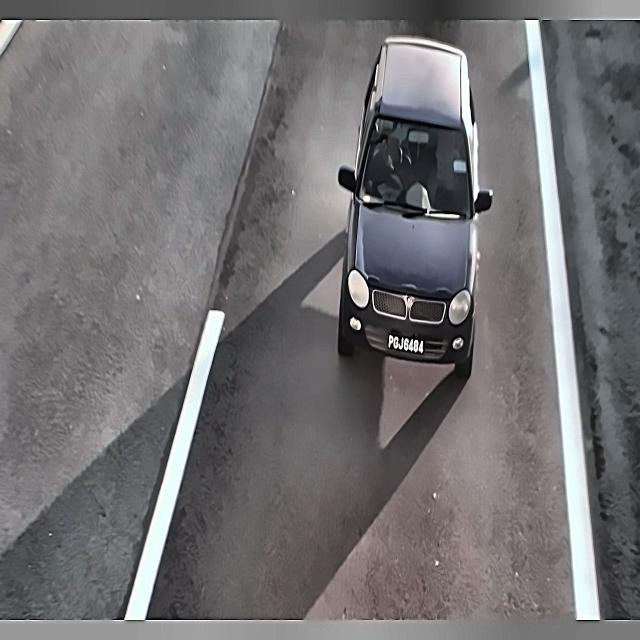car: (384, 326, 430, 366)
